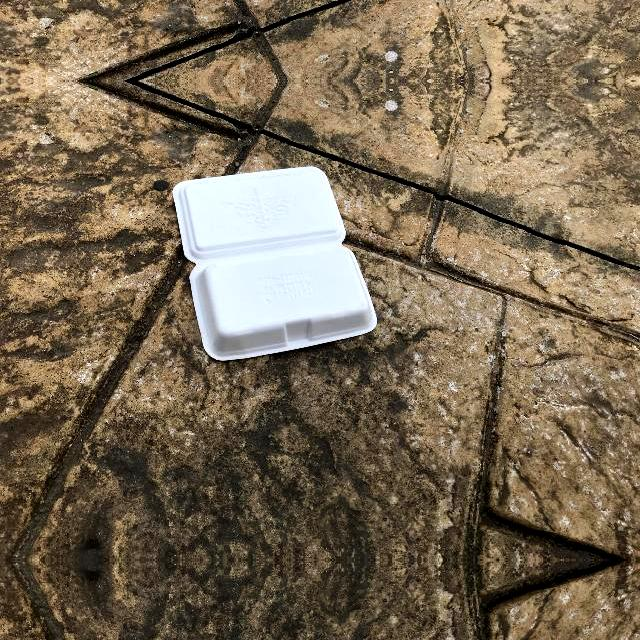Styrofoam: (170, 165, 378, 361), (172, 165, 377, 360)
